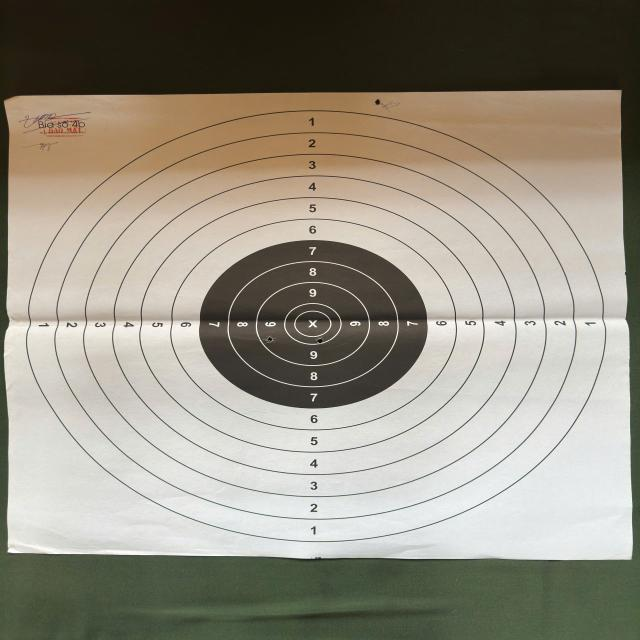bullet: (316, 337, 323, 343), (375, 99, 380, 105), (266, 338, 273, 342)
target: (5, 91, 632, 560)
